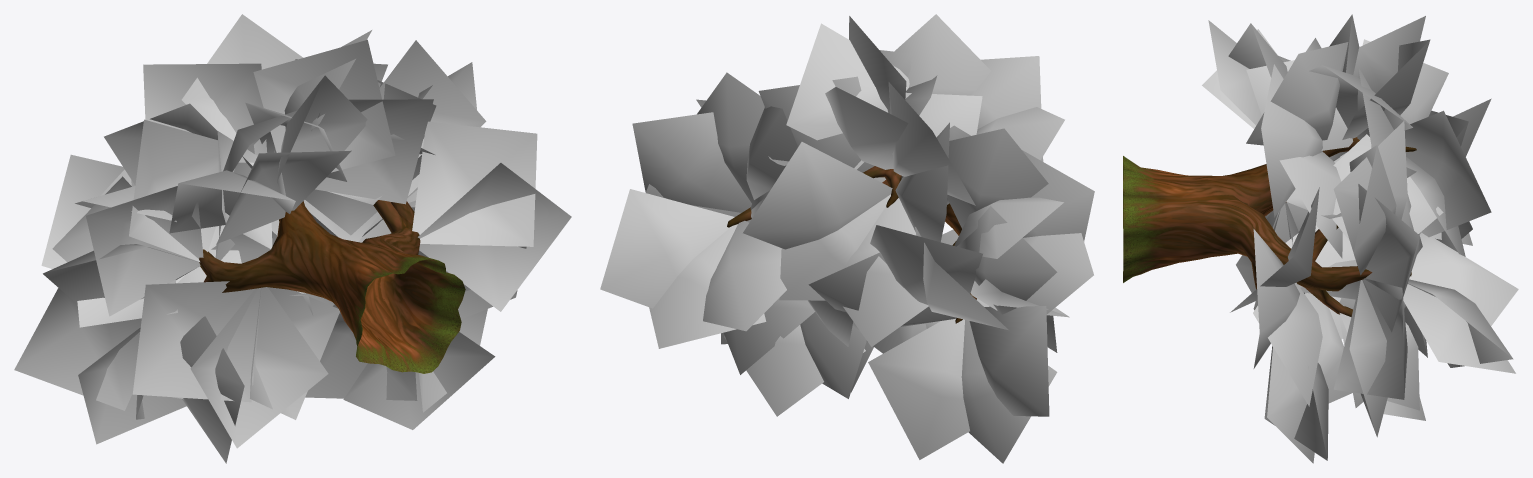
File: Deciduous_tree1.fbx
3 renders of one model, left to right at view 1: azimuth 30°, elevation 25°; view 2: azimuth 150°, elevation 25°; view 3: azimuth 270°, elevation 25°, orthographic. The views are drawn at different scales.
Visible parts, largest first — view 1: Deciduous_tree1; view 2: Deciduous_tree1; view 3: Deciduous_tree1.
Boxes of the visible parts, x1,y1,x2,y2 form: Deciduous_tree1: [14, 14, 571, 463]; Deciduous_tree1: [600, 14, 1094, 463]; Deciduous_tree1: [1123, 14, 1518, 463].
Size of the model in its own units: 16.32 by 13.09 by 12.17.
